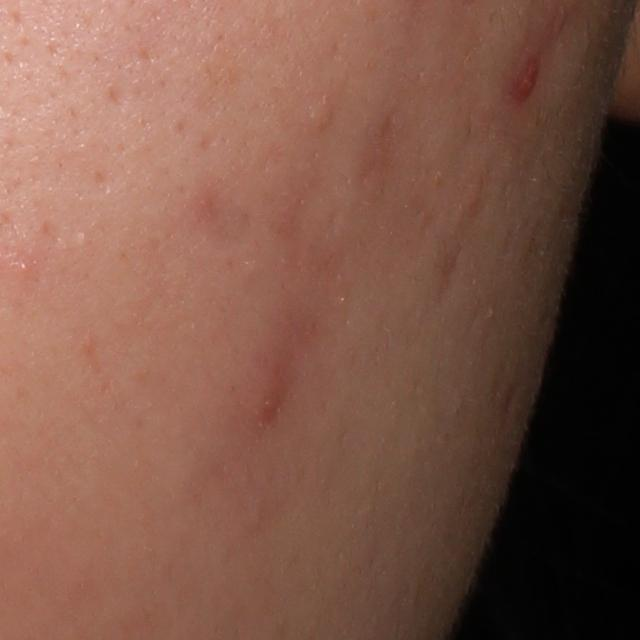comedo: (308, 95, 336, 129)
papule: (512, 64, 542, 103)
